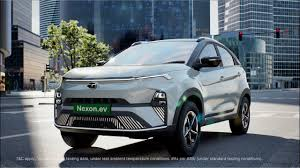Tata Nexon: (53, 39, 253, 157)
